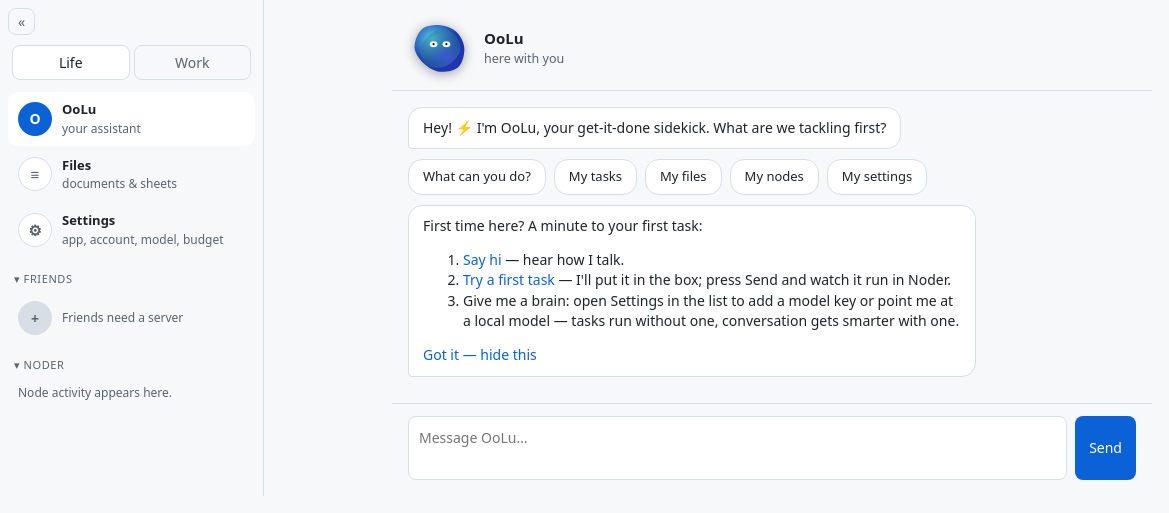
Test case: Life › opens on the OoLu conversation and can switch into Work
Expected: the button "Life" is shown, [12, 45, 130, 80]
Expected: the text box with placeholder "Message OoLu…" is shown, [408, 416, 1067, 480]
Click the button "Work". click: (192,62)
box: [134, 45, 251, 80]
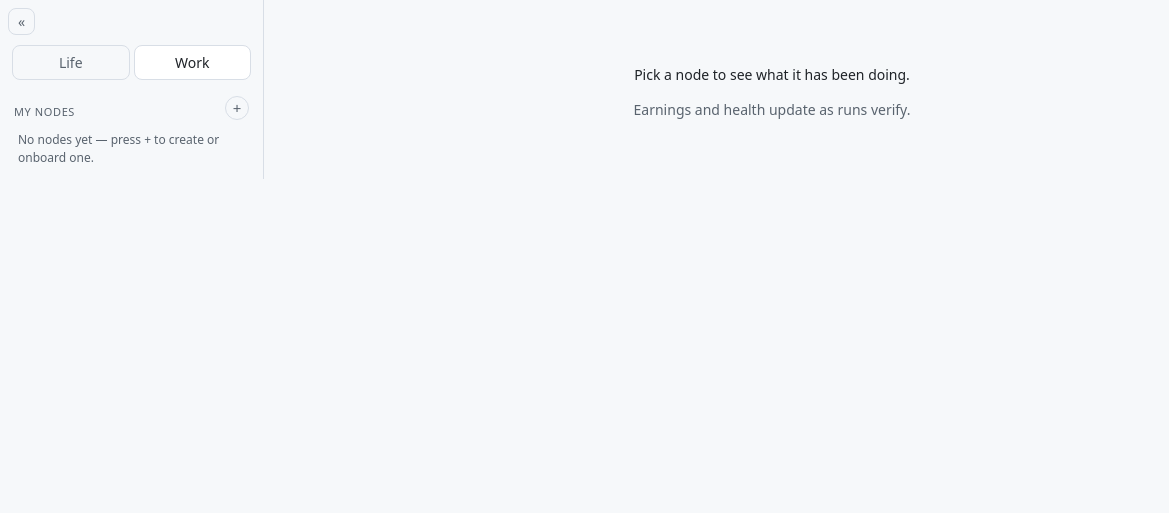
Expected: the text "My nodes" is shown, [14, 104, 75, 120]
Click the button "Life". click: (71,62)
box: [12, 45, 130, 80]
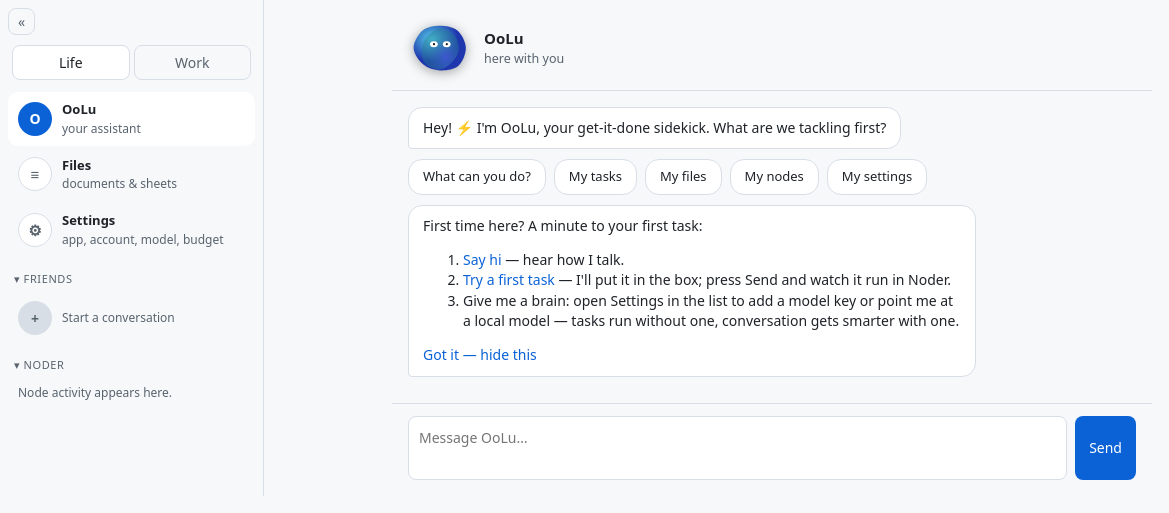
Expected: the text box with placeholder "Message OoLu…" is shown, [408, 416, 1067, 480]
